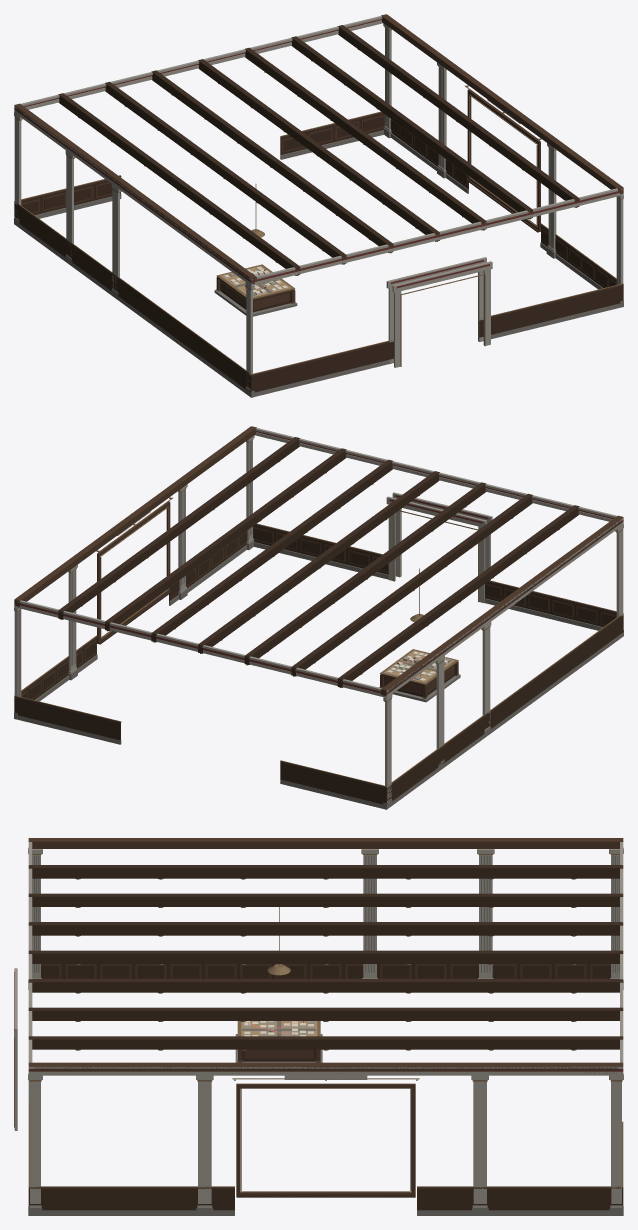
Rendered from ops.glb.
3 views of the same model, one above another, from view 1: azimuth 30°, elevation 25°; view 2: azimuth 150°, elevation 25°; view 3: azimuth 270°, elevation 25° (orthographic). The views are drawn at different scales.
Visible parts, largest first — view 1: m5_ops; view 2: m5_ops; view 3: m5_ops.
Boxes of the visible parts, box(x1,y1,x2,y2) form: m5_ops: box(14, 14, 623, 397); m5_ops: box(14, 426, 623, 809); m5_ops: box(14, 838, 623, 1215).
Bounding box in the file's own units: 19.6 × 6 × 22.15.
